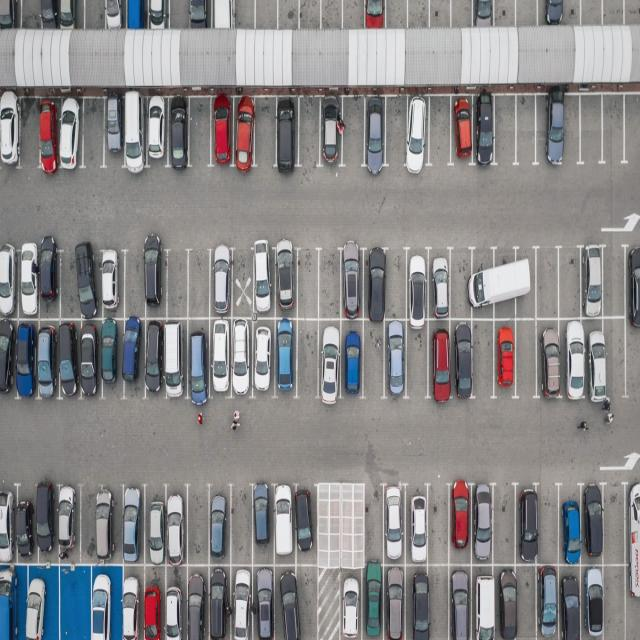space-empty: (58, 562, 93, 638), (230, 487, 256, 567), (187, 487, 213, 566), (512, 320, 538, 398), (293, 320, 319, 398), (604, 318, 629, 398), (423, 564, 450, 638), (291, 564, 318, 638), (470, 319, 496, 395), (426, 485, 450, 567), (405, 322, 431, 397), (492, 487, 517, 565), (425, 96, 452, 167), (361, 319, 386, 395), (254, 94, 280, 167), (491, 93, 517, 165), (601, 246, 626, 320), (188, 97, 214, 168), (361, 488, 384, 568), (604, 562, 628, 638), (602, 95, 628, 165), (342, 96, 368, 166), (448, 250, 474, 320), (82, 98, 108, 168), (383, 97, 408, 169), (293, 251, 319, 320), (536, 249, 562, 318), (381, 250, 406, 321), (537, 489, 560, 566), (297, 98, 323, 166), (557, 249, 582, 319), (515, 566, 539, 638), (228, 248, 252, 320), (603, 486, 625, 564), (580, 93, 604, 164), (316, 250, 341, 318), (166, 250, 191, 318), (186, 251, 211, 318), (515, 94, 538, 165), (124, 251, 148, 317), (20, 99, 42, 171), (61, 248, 83, 318), (318, 490, 337, 567), (562, 94, 582, 167), (81, 488, 100, 563), (624, 319, 640, 397), (624, 95, 640, 165), (341, 0, 365, 30), (384, 0, 408, 30), (318, 0, 342, 30), (407, 1, 431, 30), (255, 0, 278, 30), (298, 0, 321, 30), (450, 0, 474, 28), (277, 0, 299, 30), (85, 0, 107, 30), (169, 0, 190, 30), (515, 0, 538, 27), (234, 0, 256, 28), (430, 0, 452, 28), (21, 0, 42, 29), (580, 0, 604, 25), (493, 0, 515, 27), (601, 0, 624, 25), (624, 0, 640, 24)
space-occupied: (18, 564, 56, 640), (86, 562, 119, 638), (570, 320, 600, 402), (560, 317, 590, 398), (470, 563, 500, 638), (187, 319, 213, 402), (537, 320, 564, 399), (539, 93, 568, 166), (380, 483, 406, 564), (426, 320, 453, 398), (206, 563, 234, 638), (230, 565, 258, 640), (446, 483, 472, 563), (492, 316, 518, 395), (272, 318, 298, 396), (339, 318, 365, 396), (164, 486, 190, 564), (140, 565, 167, 640), (185, 565, 212, 640), (587, 318, 612, 399), (404, 97, 432, 169), (449, 319, 474, 399), (471, 483, 496, 563), (448, 95, 476, 166), (120, 564, 146, 640), (560, 488, 586, 564), (252, 319, 277, 398), (122, 318, 147, 397), (405, 484, 430, 563), (448, 564, 474, 639), (162, 318, 186, 399), (122, 96, 148, 170), (163, 566, 189, 640), (208, 319, 232, 399), (34, 319, 58, 399), (491, 247, 518, 318), (56, 484, 81, 560), (122, 484, 146, 563), (404, 250, 431, 320), (208, 486, 232, 564), (142, 96, 168, 168), (228, 320, 252, 398), (58, 320, 81, 401), (534, 566, 559, 640), (384, 320, 408, 397), (94, 486, 118, 563), (471, 247, 497, 318), (340, 569, 366, 640), (318, 316, 341, 396), (13, 319, 36, 399), (208, 248, 234, 318), (577, 248, 603, 318), (209, 96, 234, 168), (380, 563, 404, 638), (558, 563, 582, 638), (273, 484, 296, 562), (317, 98, 343, 167), (251, 486, 274, 564), (254, 243, 278, 317), (405, 564, 429, 638), (274, 565, 298, 639), (167, 98, 192, 169), (101, 250, 127, 318), (274, 97, 299, 167), (232, 98, 257, 168), (59, 98, 84, 168), (515, 488, 538, 564), (578, 562, 601, 638), (426, 252, 452, 319), (79, 320, 101, 399), (583, 486, 605, 565), (273, 246, 297, 318), (80, 246, 104, 318), (14, 247, 38, 319), (101, 316, 123, 394), (142, 486, 164, 564), (34, 485, 57, 559), (254, 564, 277, 638), (364, 98, 388, 168), (512, 248, 536, 318), (37, 244, 60, 317), (494, 567, 517, 640), (340, 250, 365, 317), (292, 490, 314, 566), (144, 320, 165, 398), (104, 98, 127, 168), (144, 249, 168, 316), (474, 93, 496, 166), (360, 567, 382, 640), (0, 564, 21, 640), (362, 252, 385, 320), (17, 485, 37, 561), (39, 98, 60, 170), (1, 96, 20, 168), (0, 490, 17, 567), (0, 245, 18, 317), (625, 482, 640, 563), (625, 560, 640, 638), (0, 319, 14, 397), (626, 245, 640, 319), (540, 0, 580, 25), (126, 0, 150, 31), (147, 0, 171, 29), (56, 0, 80, 29), (187, 0, 211, 28), (210, 0, 233, 29), (362, 0, 385, 29), (104, 0, 126, 30), (473, 0, 497, 27), (0, 0, 20, 30), (39, 0, 58, 29), (69, 0, 85, 29)
